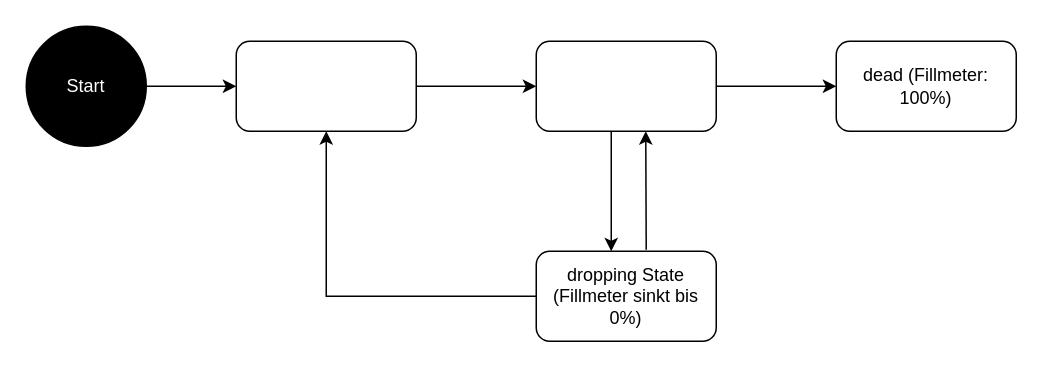
The diagram is 1043 pixels wide and 368 high, and some of its shapes have lost their labels. Here are the shapes that lost their labels. From the top down, the centre of each, then its label:
pixel 325 85: invisible State (Fillmeter: 0%)
pixel 625 85: visible State (Fillmeter erhöht sich bis 100%)
